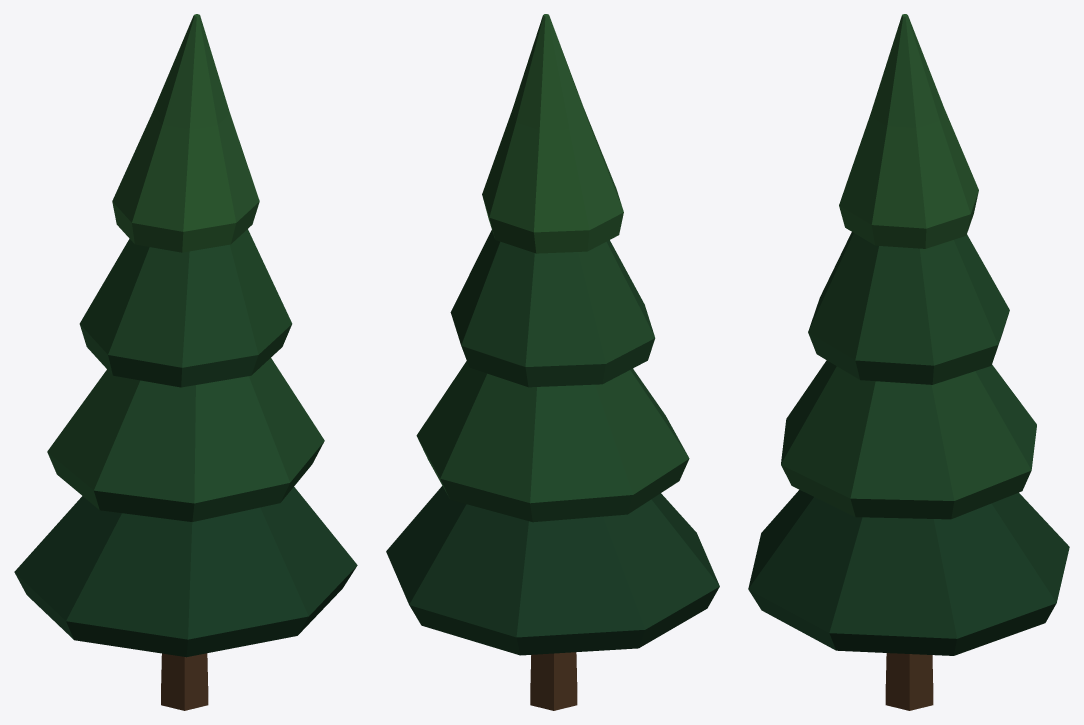
File: E1_pine_c.glb
3 views of the same model, side by side, from view 1: azimuth 30°, elevation 25°; view 2: azimuth 150°, elevation 25°; view 3: azimuth 270°, elevation 25° (orthographic).
Visible parts, largest first — view 1: E1_pine_c; view 2: E1_pine_c; view 3: E1_pine_c.
Boxes of the visible parts, x1,y1,x2,y2 form: E1_pine_c: [14, 14, 357, 710]; E1_pine_c: [386, 14, 719, 710]; E1_pine_c: [748, 14, 1069, 710].
Size of the model in its own units: 1.85 by 4.2 by 1.78.
